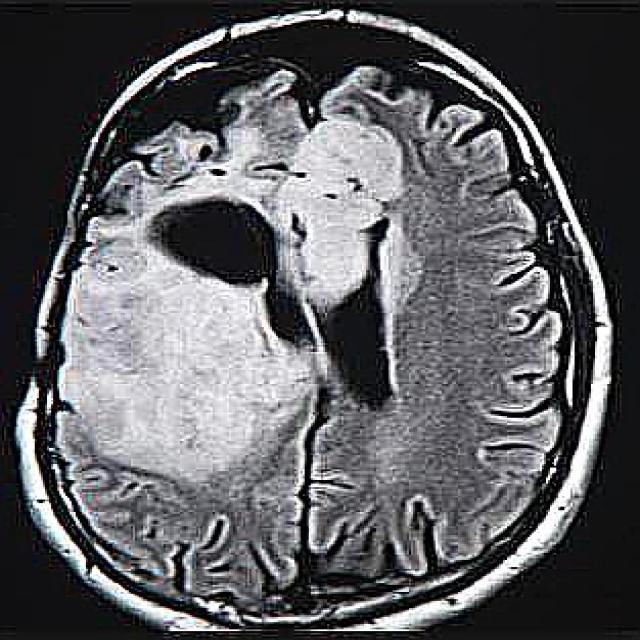Tumor-Cell: (85, 222, 286, 470), (280, 127, 437, 314)
